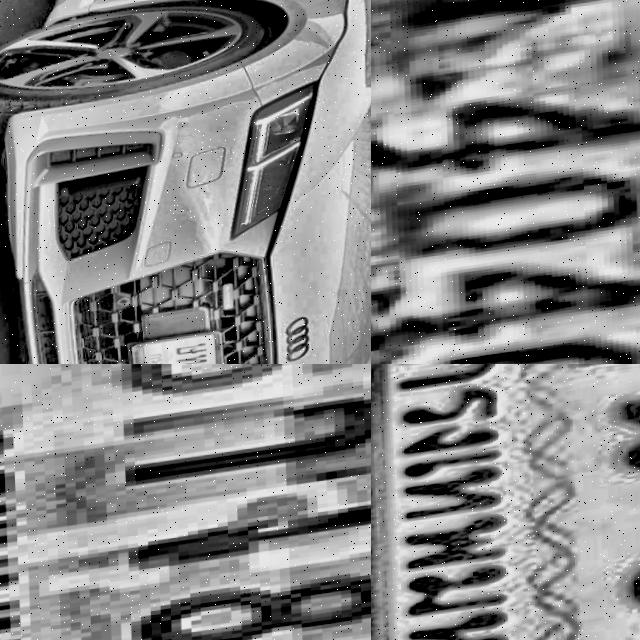license-plate: (0, 364, 371, 640), (371, 0, 640, 364), (371, 364, 640, 640), (136, 337, 224, 364)
